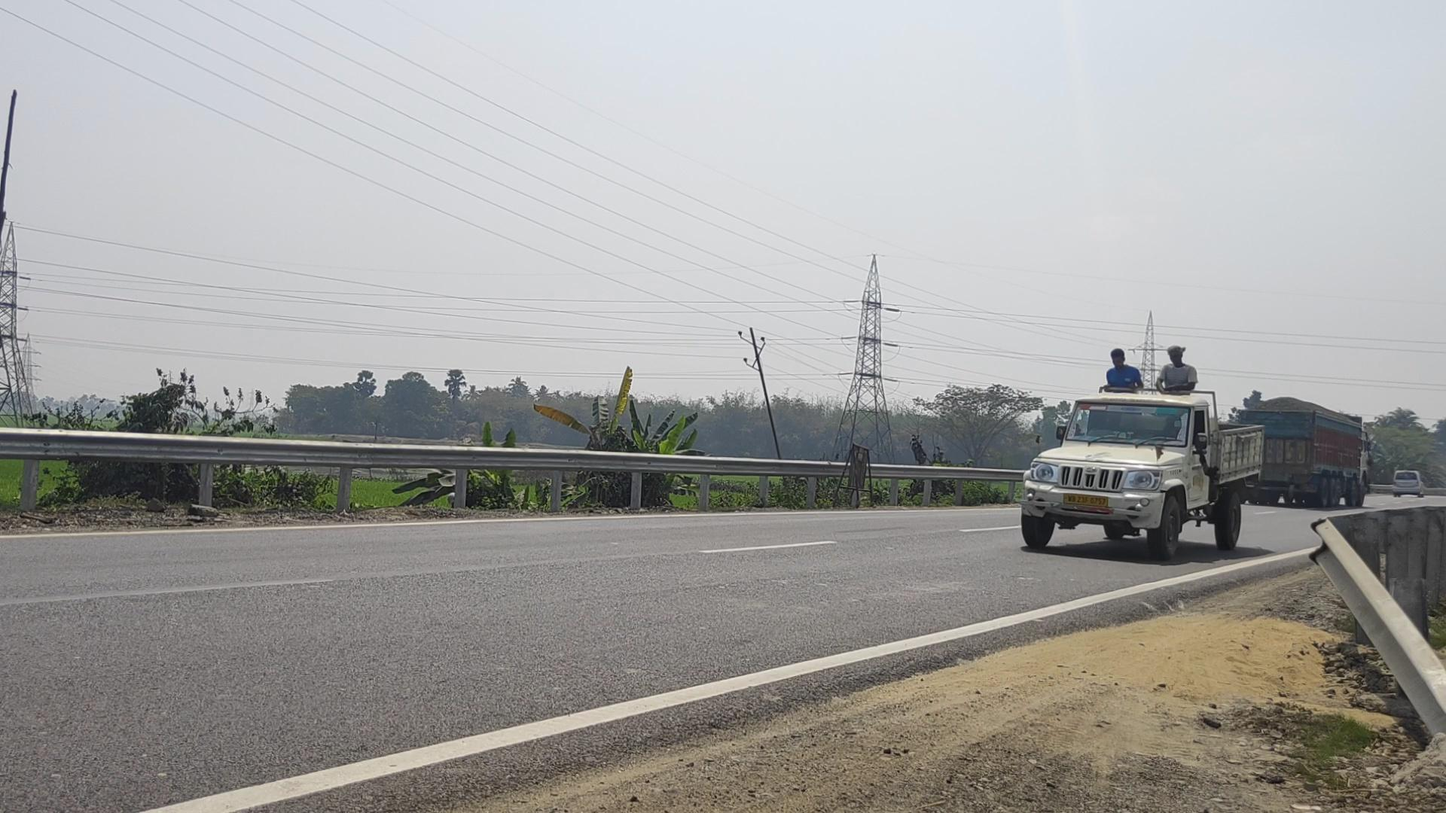car: (1392, 470, 1425, 498)
truck: (1237, 397, 1371, 510)
van: (1020, 346, 1265, 562)
